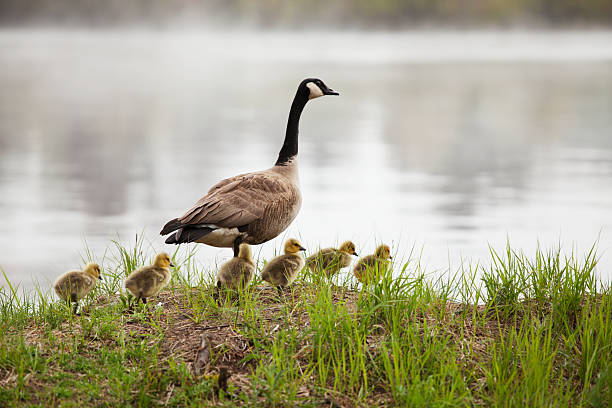goose: (155, 75, 341, 293)
